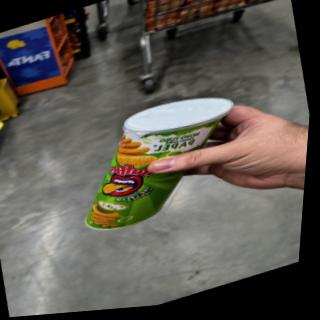food-box: (48, 71, 261, 243)
